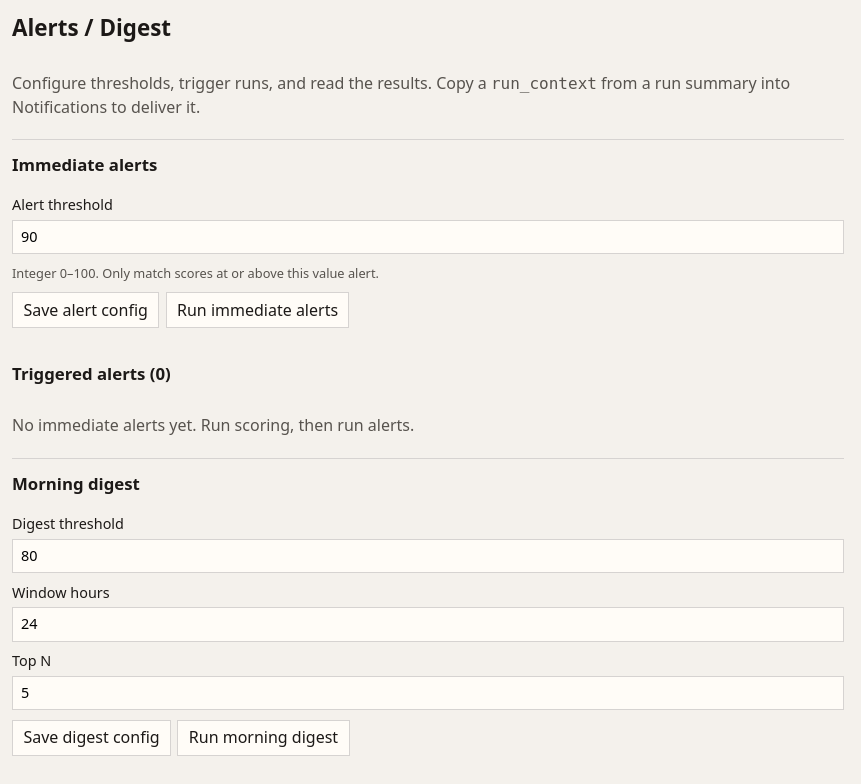
AlertsDigestPage › sends a correlation id when running alerts and lists the result
The image size is (861, 784).
Expected: the text "Backend Engineer at Acme" is not shown
Expected: the text "No immediate alerts yet. Run scoring, then run alerts." is shown, [12,414,414,436]
Step 1. Click the button "Run immediate alerts" → (258, 310), box [166,292,349,328]
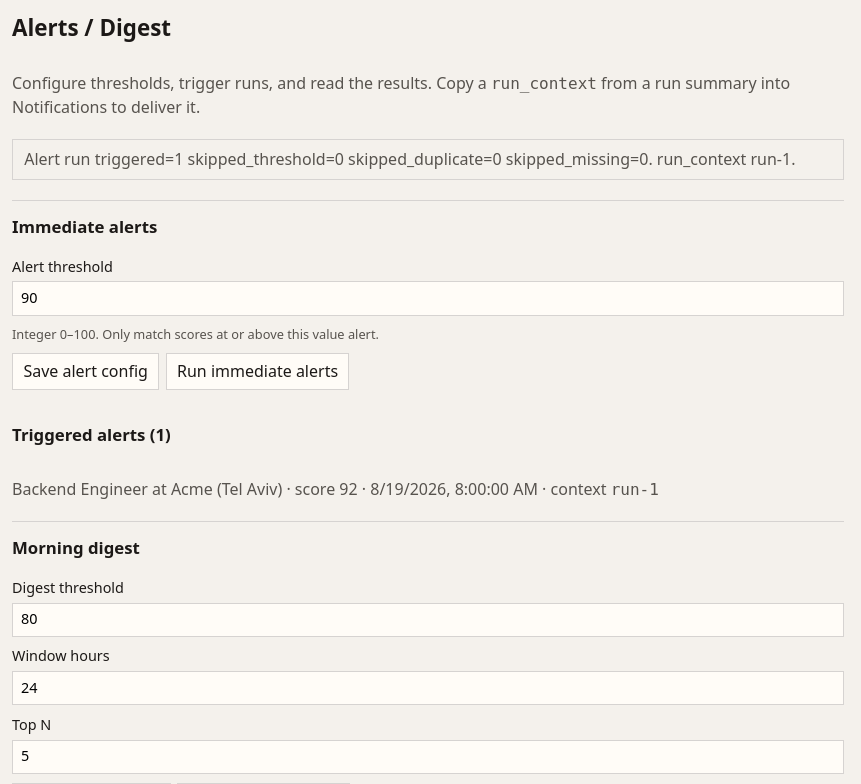
Result: the list item "Backend Engineer at Acme" is shown at [12,478,282,500]
Result: the message is shown at [12,139,844,180]
